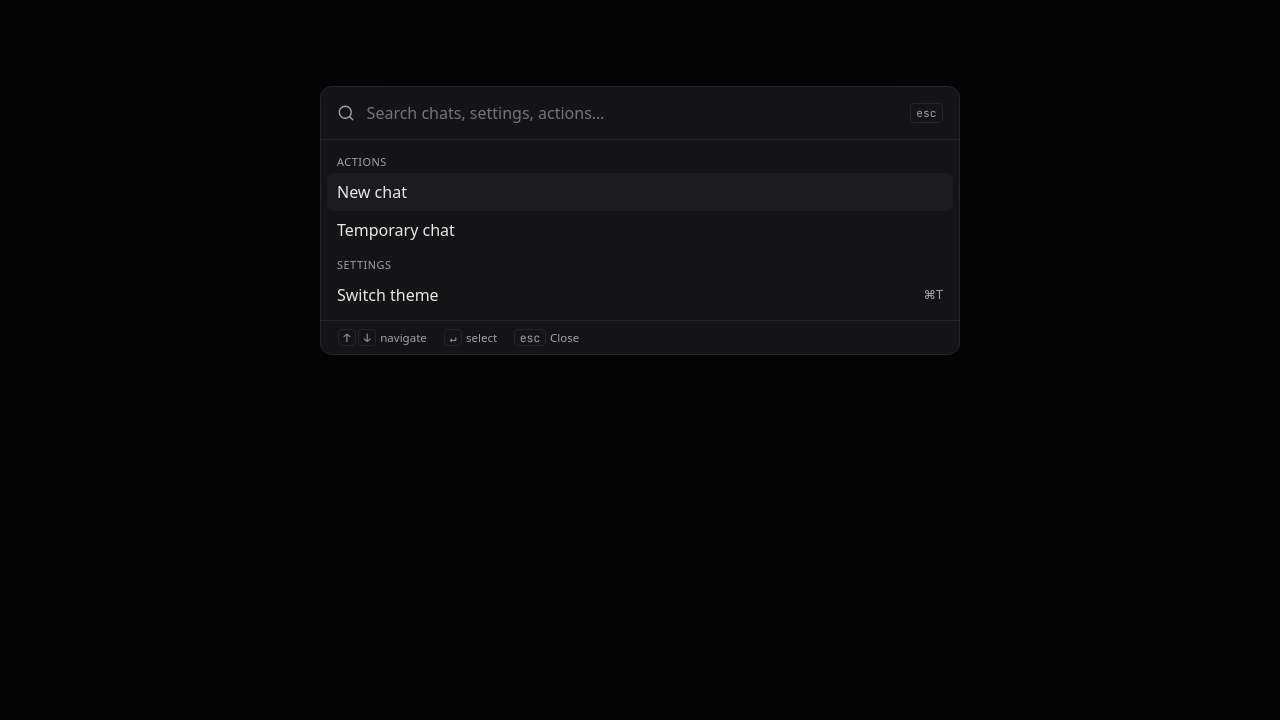
it: CommandPalette › filters by label, group, or keyword and highlights the match
This screenshot has width=1280, height=720.
Type "ghost" into the field at (632, 113), box [365, 101, 900, 125]
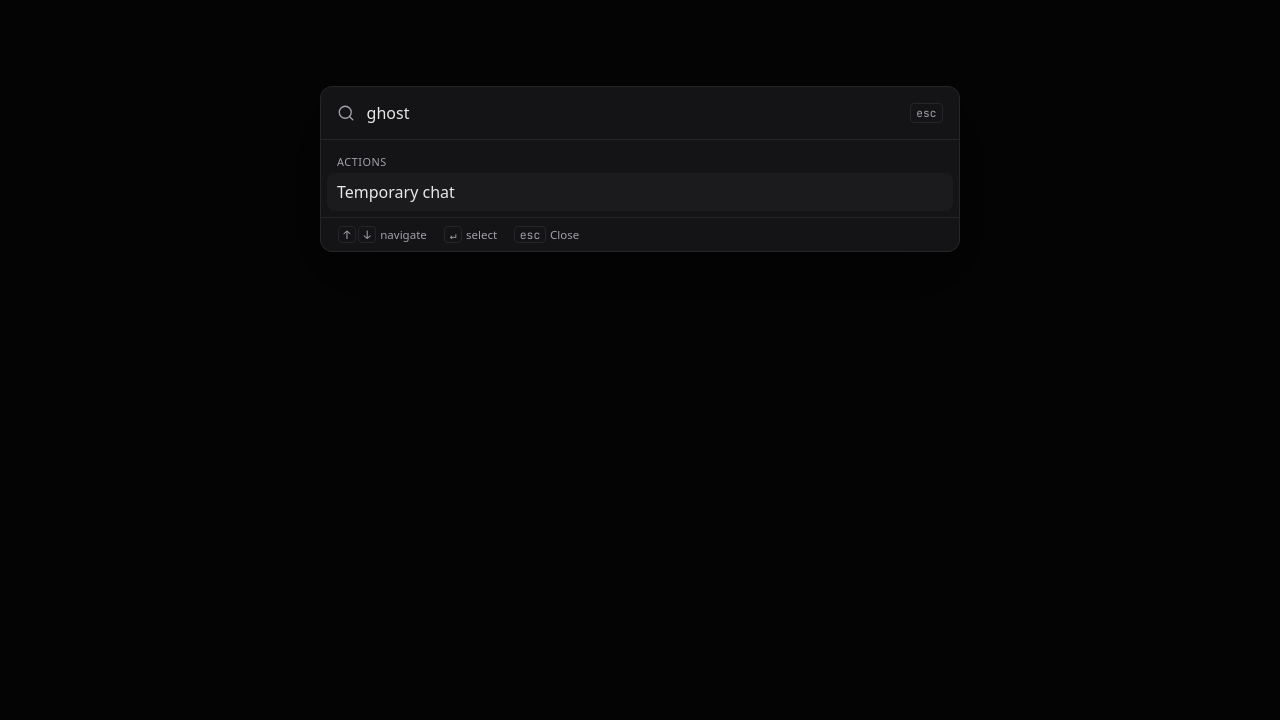
Expected: the text "Temporary chat" is shown, [337, 181, 455, 203]
Now the button "New chat" is gone
